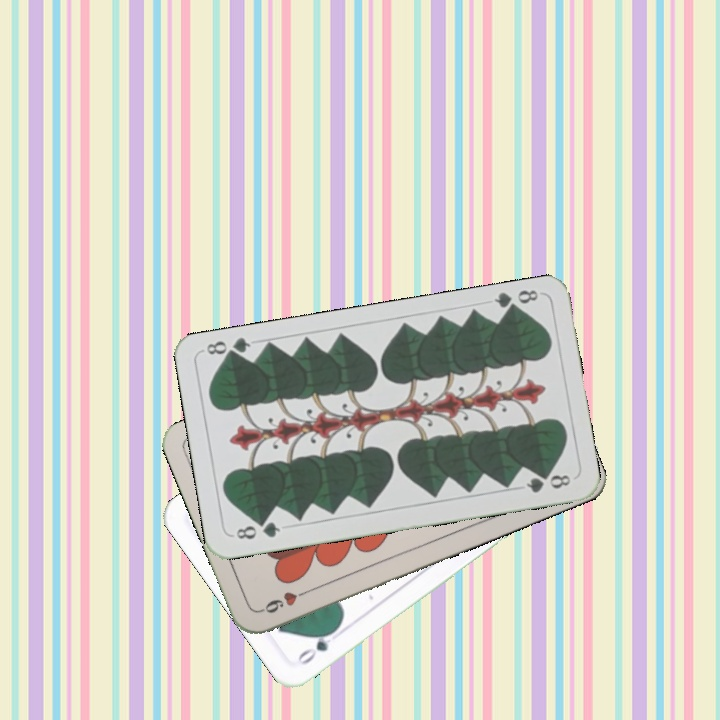G8: (490, 285, 541, 317), (232, 517, 283, 542)
GO: (292, 623, 341, 668)
H9: (256, 585, 312, 616)
